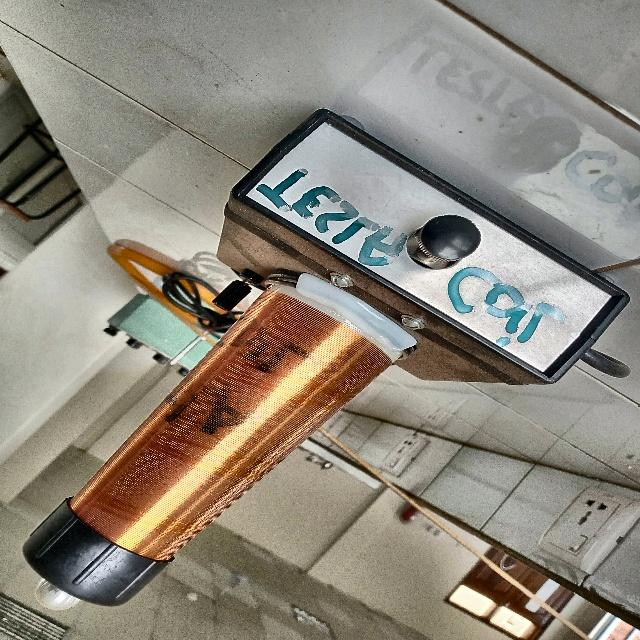Tesla Coil: (1, 109, 638, 629)
